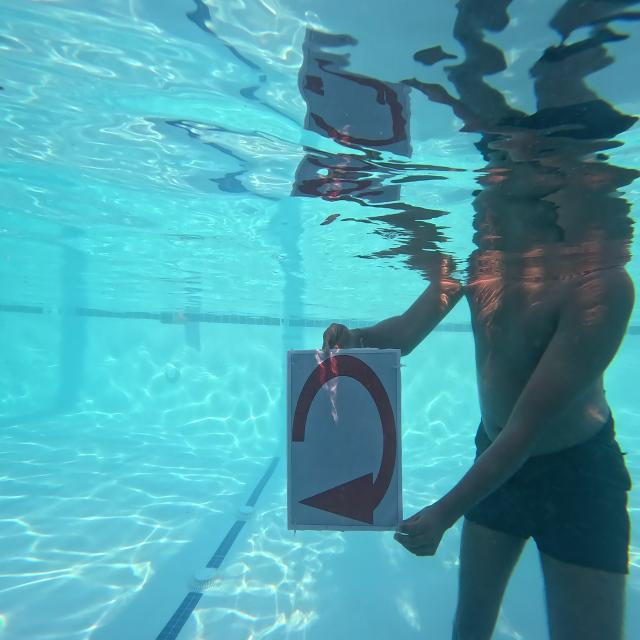red_side: (275, 332, 412, 542)
